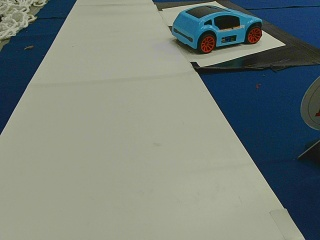car: (171, 5, 263, 53)
